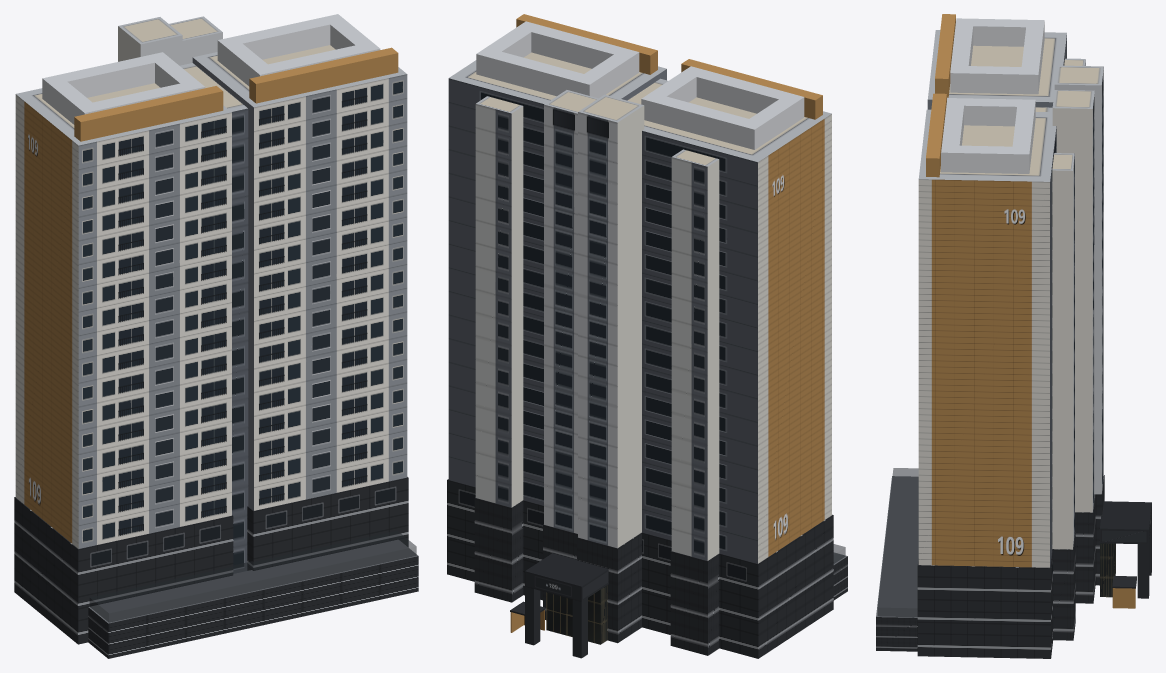
File: 3D_place_109.glb
3 views of the same model, side by side, from view 1: azimuth 30°, elevation 25°; view 2: azimuth 150°, elevation 25°; view 3: azimuth 270°, elevation 25° (orthographic). The views are drawn at different scales.
Visible parts, largest first — view 1: KumhoParkHills_109; view 2: KumhoParkHills_109, Dong109_NorthCenter_Entrance; view 3: KumhoParkHills_109, Dong109_NorthCenter_Entrance.
Boxes of the visible parts, left/top/right/bottom form: KumhoParkHills_109: left=14, top=14, right=418, bottom=658; KumhoParkHills_109: left=447, top=14, right=847, bottom=658; Dong109_NorthCenter_Entrance: left=510, top=553, right=608, bottom=658; KumhoParkHills_109: left=876, top=14, right=1104, bottom=658; Dong109_NorthCenter_Entrance: left=1099, top=501, right=1151, bottom=608.
Size of the model in its own units: 36.81 by 56.15 by 28.1.
Materials: 47 (17 with a texture image).
